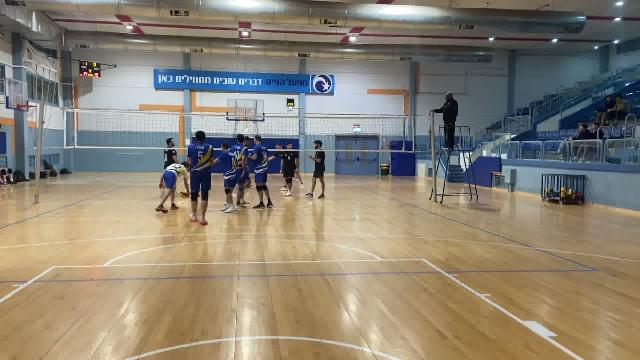ball: (180, 185, 190, 204)
